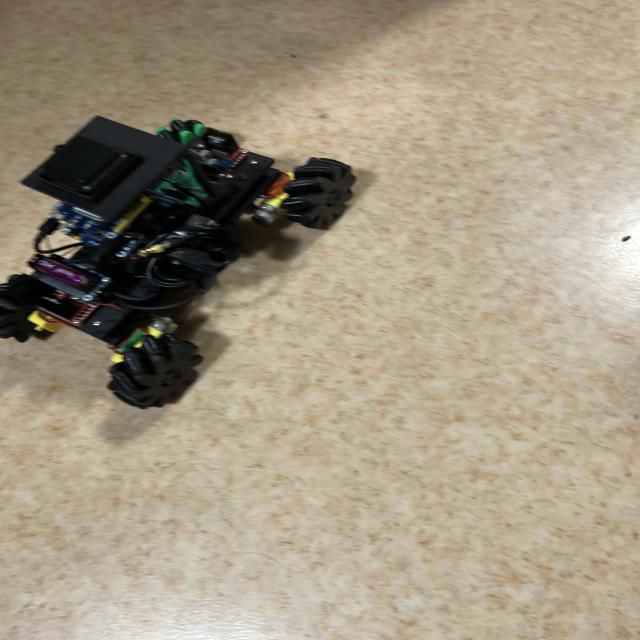robot: (0, 116, 355, 408)
